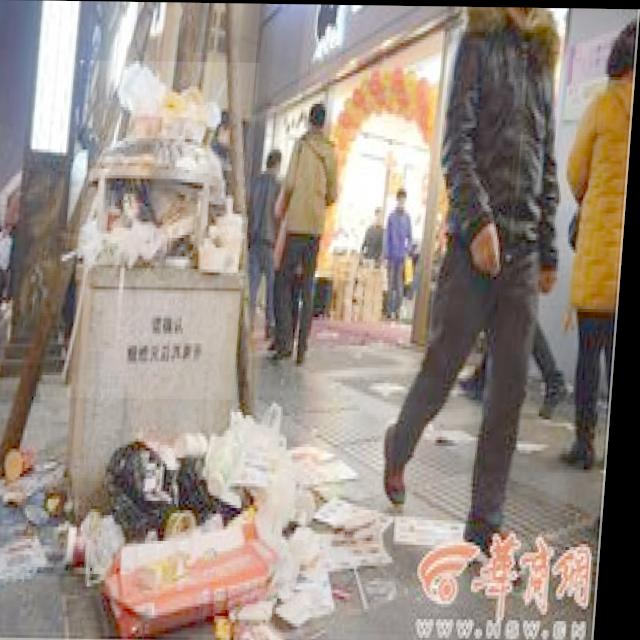garbage: (0, 396, 479, 640)
overflow: (66, 60, 261, 519)
